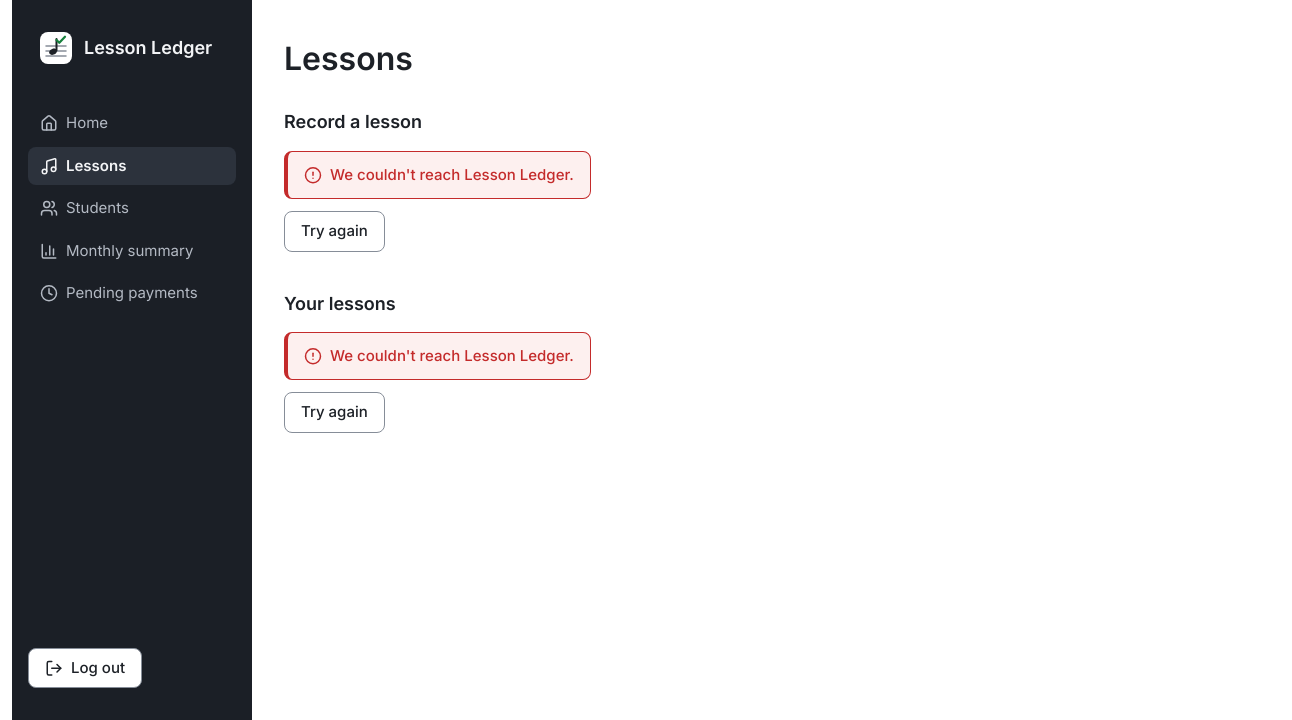
Test: F06 AC-2 the shell on every app page › AC-2f /lessons: Log out sends DELETE once, is disabled while it runs and lands on /login
Later steps or results of the test are not shown.
Check: the heading "Lessons" is shown, box [284, 39, 413, 78]
Check: the navigation bar named "Main" is shown, box [28, 104, 236, 312]
Double-click the button "Log out".
double_click(85, 668)  # box [28, 648, 142, 688]
(page scrolled)
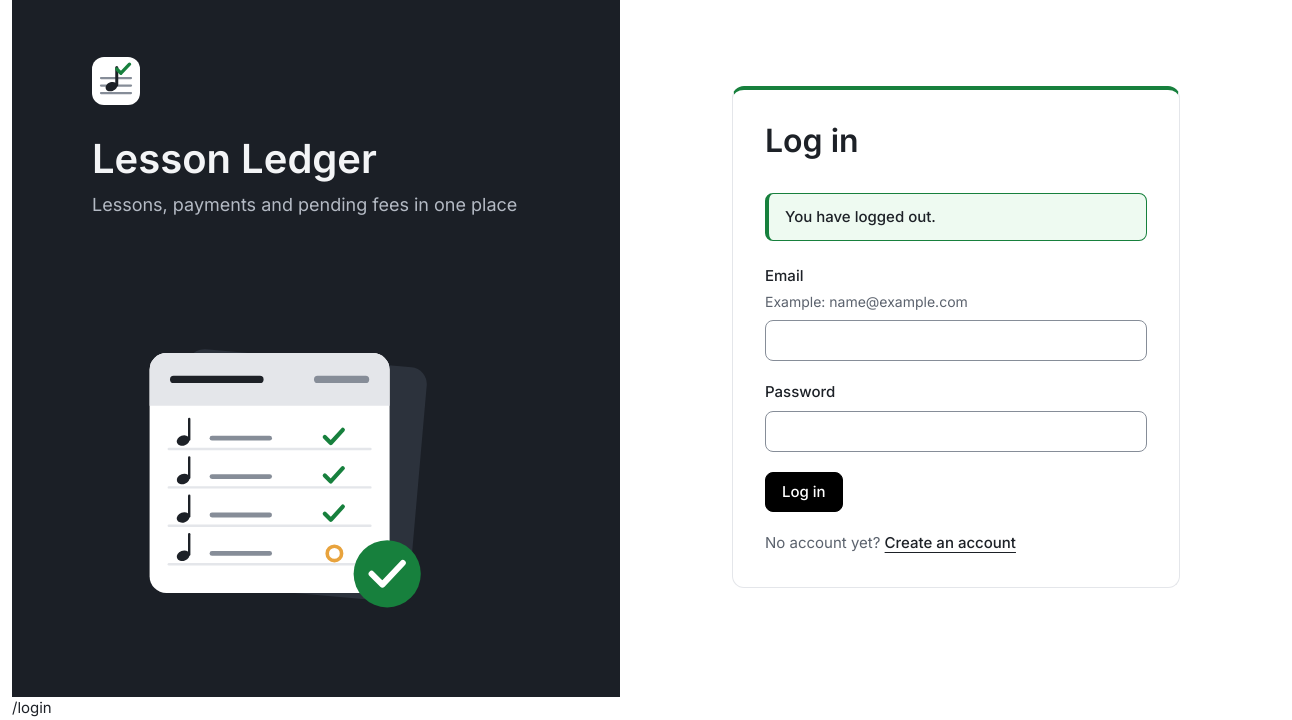
Check: the heading "Log in" is shown, box [765, 121, 859, 160]
Check: the text with test id "location" reads "/login", box [12, 698, 52, 717]
